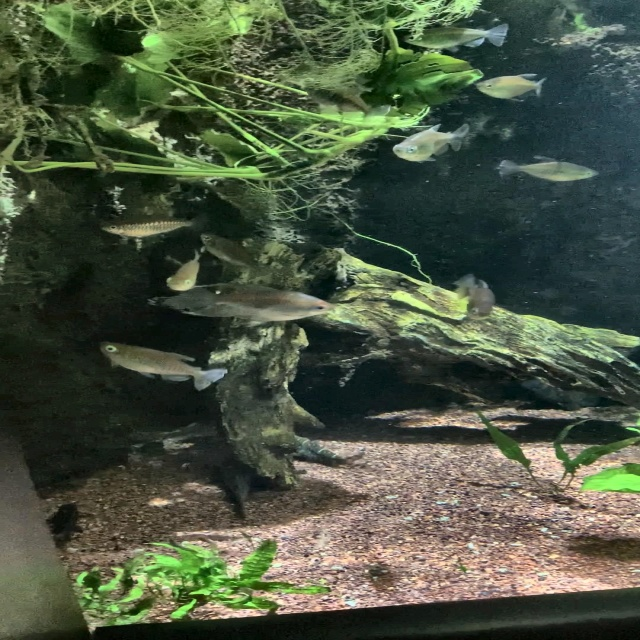fish: (146, 283, 338, 329), (94, 338, 232, 393), (392, 123, 476, 164), (401, 23, 511, 53), (494, 158, 597, 183), (102, 218, 196, 243), (46, 503, 94, 551), (474, 73, 549, 103), (453, 275, 495, 320), (167, 251, 201, 292)
